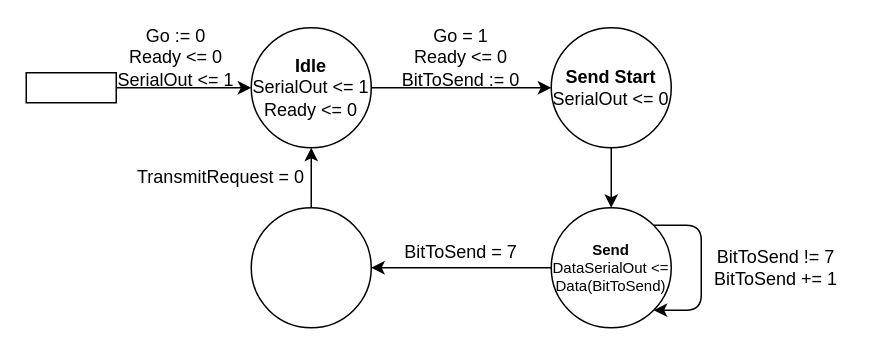
Image size: 870x354. Some labels were removed from this diagram. Here are the shapes that lost their labels. From the top down, the centre of each, then its label:
At point (70, 87): "Reset".
At point (310, 267): "Send Stop SerialOut <= 1".
